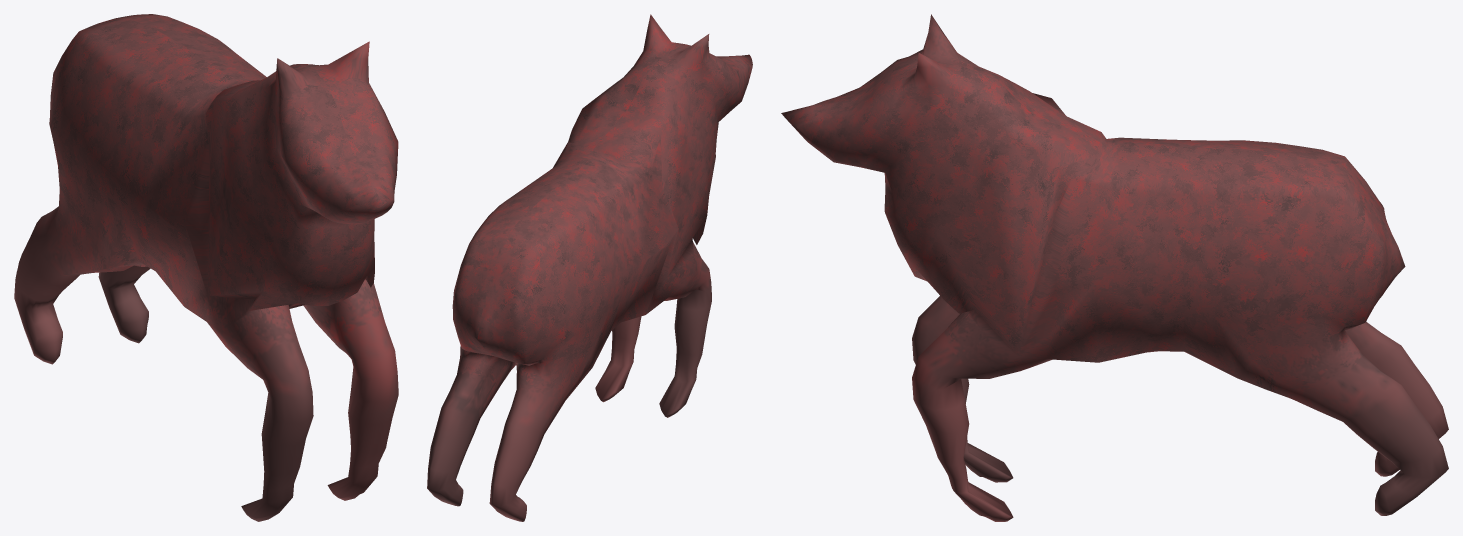
The model's file is piesblend_000008.obj.
3 views of the same model, side by side, from view 1: azimuth 30°, elevation 25°; view 2: azimuth 150°, elevation 25°; view 3: azimuth 270°, elevation 25° (orthographic). The views are drawn at different scales.
Visible parts, largest first — view 1: Cube; view 2: Cube; view 3: Cube.
Part boxes in pixels (x1,y1,x2,y2): Cube: (14,14,398,521); Cube: (427,14,752,521); Cube: (781,14,1448,521).
Size of the model in its own units: 2.55 by 6.85 by 8.97.
Materials: 1 (1 with a texture image).
